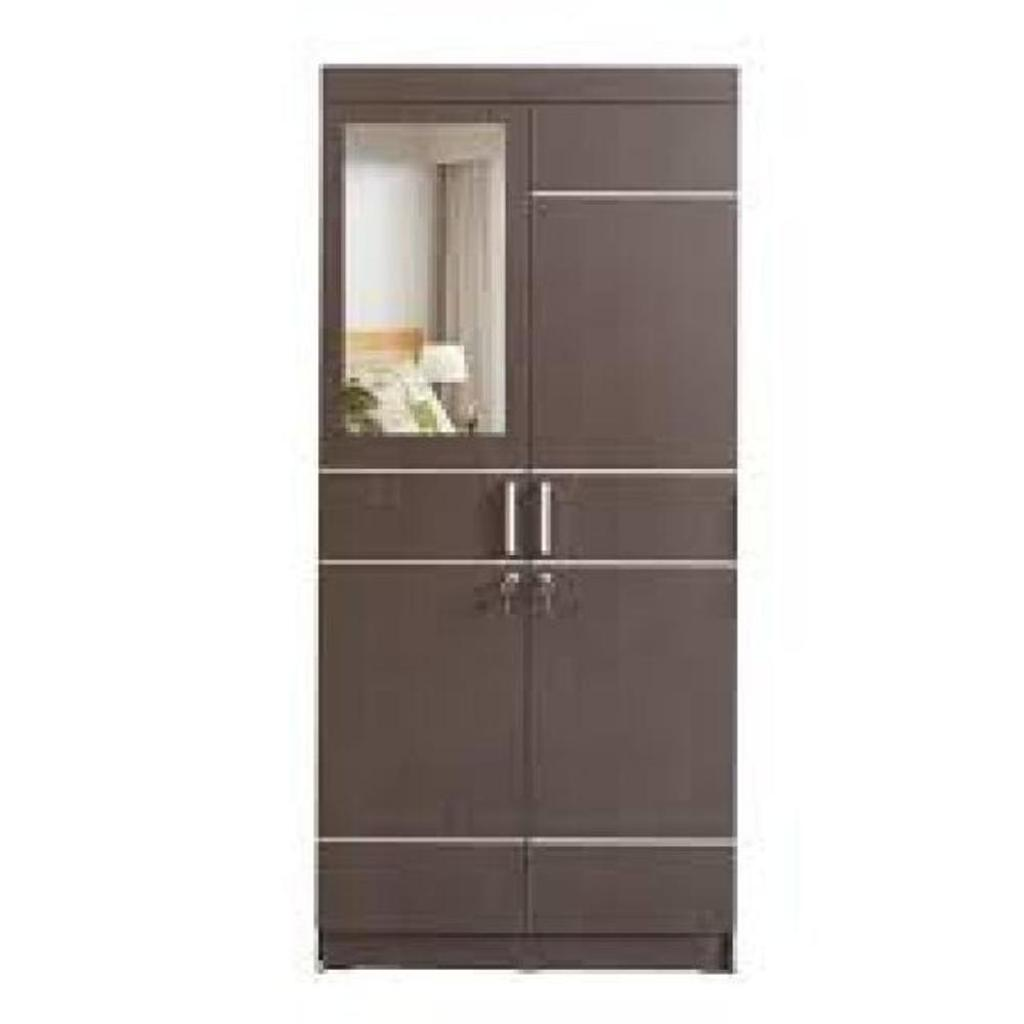cabinet: (313, 59, 743, 983)
